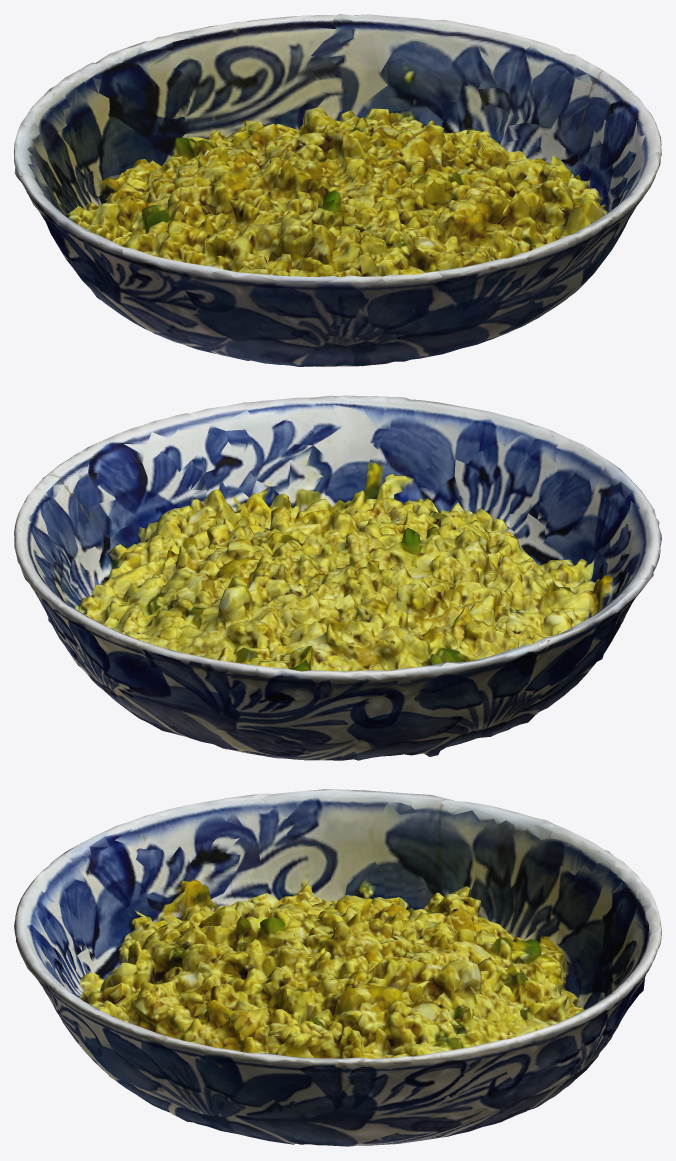
Rendered from blenderrevuelto.glb.
3 renders of one model, top to bottom at view 1: azimuth 30°, elevation 25°; view 2: azimuth 150°, elevation 25°; view 3: azimuth 270°, elevation 25°, orthographic.
Visible parts, largest first — view 1: Node_0; view 2: Node_0; view 3: Node_0.
Boxes of the visible parts, x1,y1,x2,y2 form: Node_0: (14,14,661,366); Node_0: (14,395,661,760); Node_0: (14,789,661,1146).
Bounding box in the file's own units: 72.84 × 18.33 × 72.66.
1 material, 1 textured.
